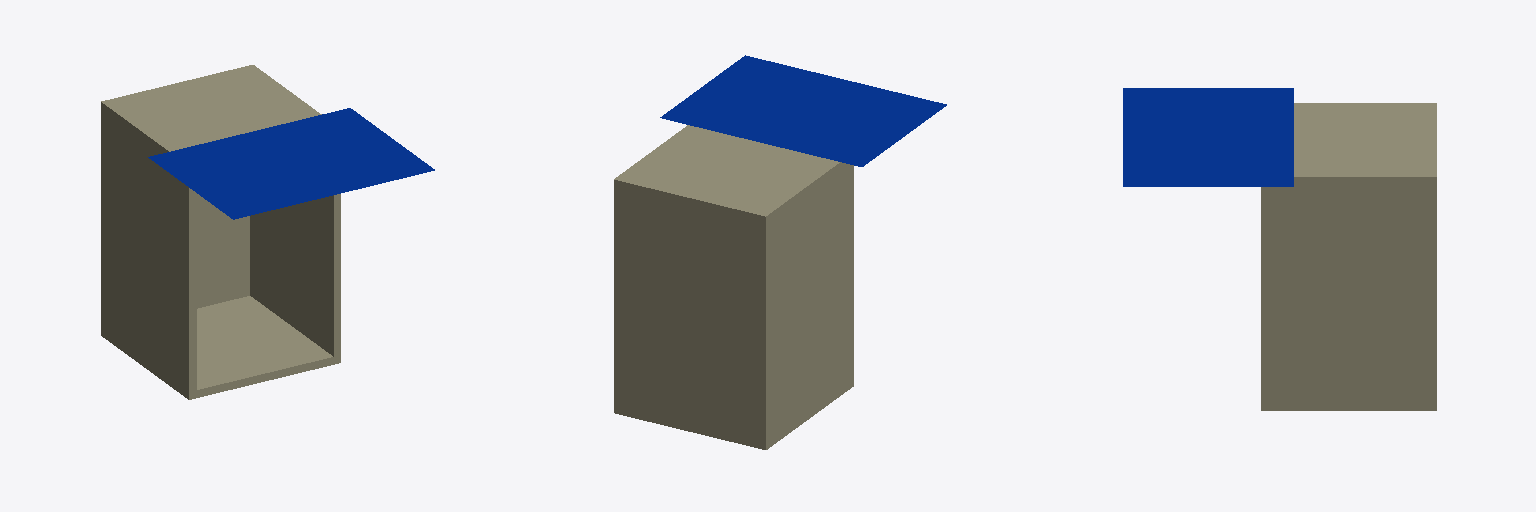
Rendered from basketball.obj.
3 views of the same model, side by side, from view 1: azimuth 30°, elevation 25°; view 2: azimuth 150°, elevation 25°; view 3: azimuth 270°, elevation 25° (orthographic).
Parts seen in each view (by area): view 1: house_Cube, Plane_Plane.002; view 2: house_Cube, Plane_Plane.002; view 3: house_Cube, Plane_Plane.002.
Part boxes in pixels (x1,y1,x2,y2): house_Cube: (101, 65, 340, 399); Plane_Plane.002: (148, 108, 434, 219); house_Cube: (614, 125, 853, 449); Plane_Plane.002: (660, 55, 946, 166); house_Cube: (1261, 103, 1436, 410); Plane_Plane.002: (1123, 88, 1293, 186).
Bounding box in the file's own units: 22.35 × 24.95 × 30.02.